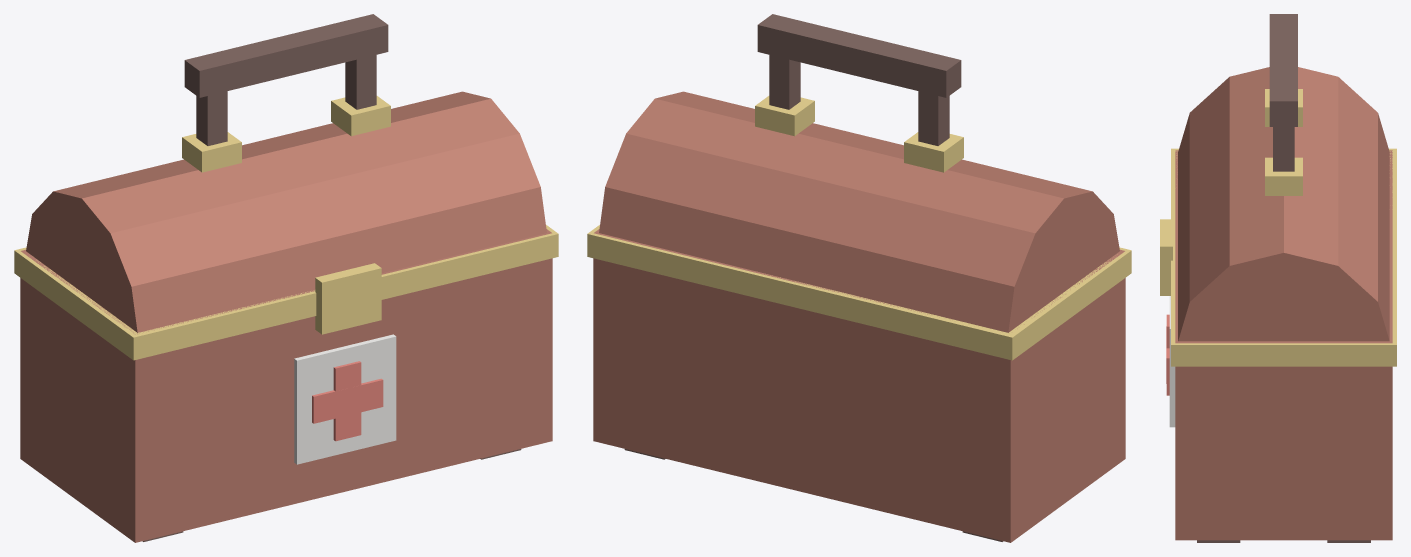
The model's file is doctor-bag.glb.
3 views of the same model, side by side, from view 1: azimuth 30°, elevation 25°; view 2: azimuth 150°, elevation 25°; view 3: azimuth 270°, elevation 25° (orthographic). The views are drawn at different scales.
Visible parts, largest first — view 1: body, lid, clasp, grip, patch, clasp_lock, cross_h, mount_L, mount_R, post_R, post_L, cross_v; view 2: body, lid, clasp, grip, mount_L, mount_R, post_R, post_L; view 3: lid, body, clasp, grip, mount_L, post_L, clasp_lock, patch, mount_R.
Boxes of the visible parts, x1,y1,x2,y2 form: body: (20,229,552,542); lid: (26,91,546,332); clasp: (14,225,558,360); grip: (184,14,388,97); patch: (294,334,396,464); clasp_lock: (315,263,381,334); cross_h: (312,378,383,423); mount_L: (331,96,390,136); mount_R: (182,132,241,172); post_R: (196,91,227,145); post_L: (345,55,376,109); cross_v: (333,361,361,441); body: (593,229,1125,542); lid: (599,91,1119,332); clasp: (587,225,1131,360); grip: (757,14,961,97); mount_L: (755,96,814,136); mount_R: (904,132,963,172); post_R: (918,91,949,145); post_L: (769,55,800,109); lid: (1178,67,1389,341); body: (1175,150,1392,540); clasp: (1171,148,1396,366); grip: (1269,14,1297,126); mount_L: (1265,157,1302,195); post_L: (1273,127,1294,171); clasp_lock: (1160,219,1172,295); patch: (1169,296,1175,427); mount_R: (1265,89,1302,126).
Size of the model in its own units: 0.428 by 0.404 by 0.218.
